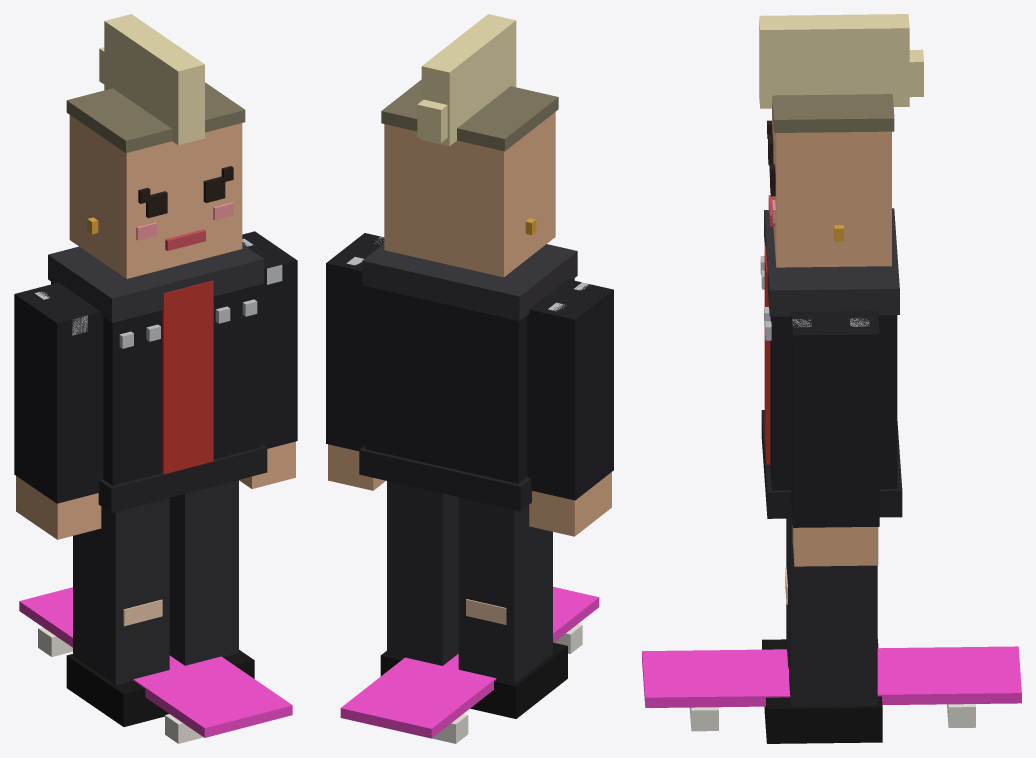
The model's file is teen_punk_2.glb.
3 renders of one model, left to right at view 1: azimuth 30°, elevation 25°; view 2: azimuth 150°, elevation 25°; view 3: azimuth 270°, elevation 25°, orthographic. The views are drawn at different scales.
Visible parts, largest first — view 1: Box23, Box10, Box14, Box7, Box1, Box36, Box15, Box34, Box16, Box3, Box33, Box21 (+9 smaller); view 2: Box14, Box23, Box10, Box7, Box1, Box36, Box16, Box3, Box34, Box33, Box21, Box9 (+5 smaller); view 3: Box3, Box36, Box23, Box1, Box34, Box14, Box16, Box2, Box33, Box6, Box21, Box15 (+3 smaller).
Boxes of the visible parts, x1,y1,x2,y2 form: Box23: (69, 115, 242, 278); Box10: (14, 282, 103, 503); Box14: (51, 281, 260, 485); Box7: (73, 498, 169, 684); Box1: (169, 480, 238, 665); Box36: (19, 587, 292, 737); Box15: (162, 280, 213, 474); Box34: (104, 14, 204, 145); Box16: (48, 244, 263, 322); Box3: (242, 231, 297, 448); Box33: (66, 82, 245, 152); Box21: (98, 444, 267, 512); Box14: (365, 278, 574, 483); Box23: (384, 112, 555, 277); Box10: (527, 279, 613, 500); Box7: (458, 497, 552, 683); Box1: (387, 481, 458, 665); Box36: (340, 586, 599, 738); Box16: (362, 244, 577, 320); Box3: (326, 233, 384, 451); Box34: (421, 14, 516, 146); Box33: (381, 79, 558, 151); Box21: (359, 445, 531, 511); Box9: (470, 642, 567, 718); Box3: (791, 311, 879, 527); Box36: (642, 646, 1021, 707); Box23: (772, 109, 891, 267); Box1: (789, 518, 877, 706); Box34: (759, 14, 909, 108); Box14: (770, 315, 897, 490); Box16: (764, 208, 899, 316); Box2: (764, 696, 882, 743); Box33: (772, 94, 894, 132); Box6: (792, 525, 878, 566); Box21: (761, 410, 902, 518); Box15: (764, 245, 770, 464).
Bounding box in the file's own units: 0.6615 × 1.65 × 0.8267.
